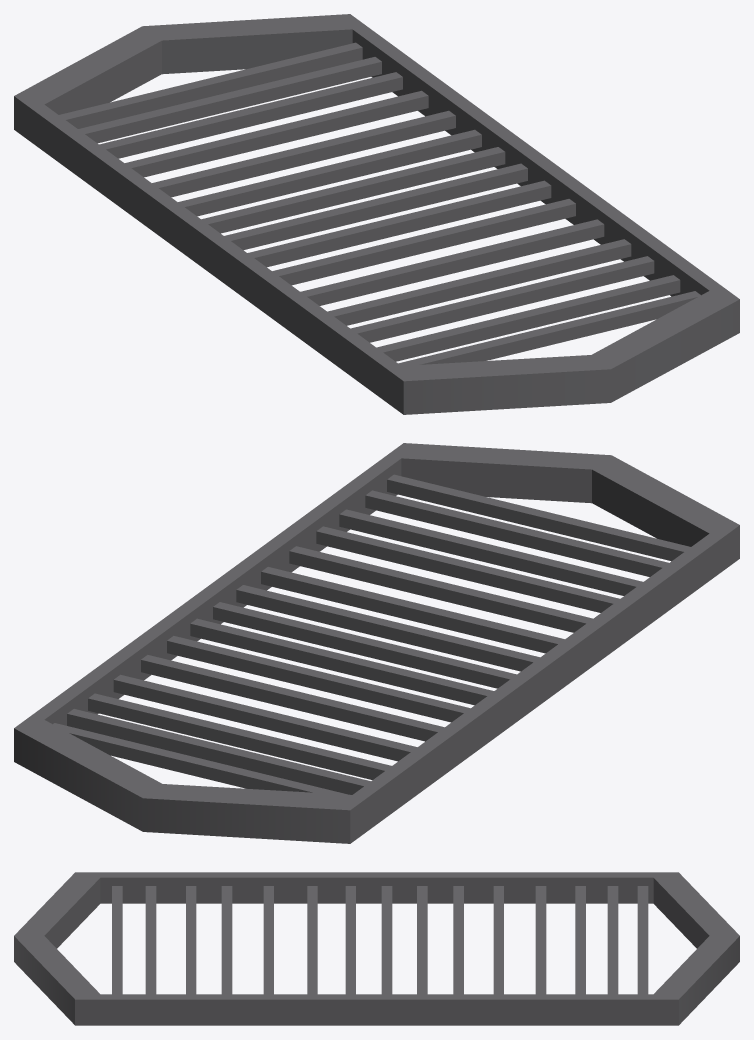
The model's file is Alcantarilla.fbx.
3 views of the same model, one above another, from view 1: azimuth 30°, elevation 25°; view 2: azimuth 150°, elevation 25°; view 3: azimuth 270°, elevation 25° (orthographic). The views are drawn at different scales.
Visible parts, largest first — view 1: Alcantarilla; view 2: Alcantarilla; view 3: Alcantarilla.
Part boxes in pixels (bbox=[...]): Alcantarilla: bbox=[14, 14, 739, 414]; Alcantarilla: bbox=[14, 443, 739, 843]; Alcantarilla: bbox=[14, 872, 739, 1025].
Size of the model in its own units: 1 by 0.0957 by 2.41.
